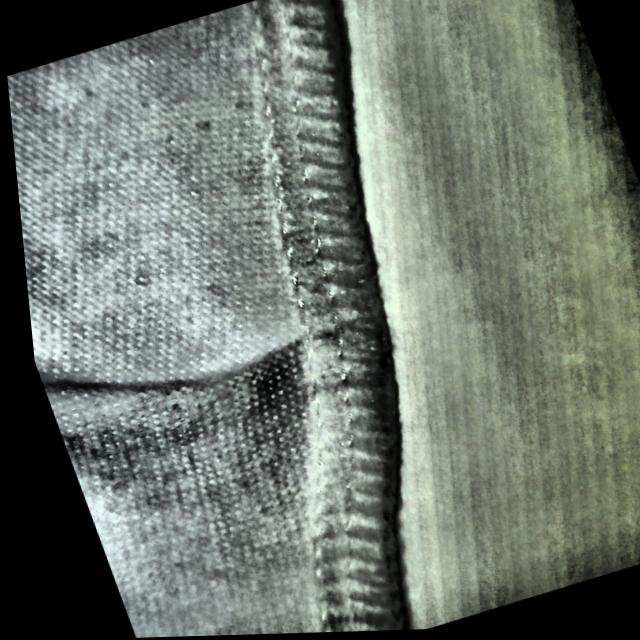seam: (67, 262, 420, 497)
